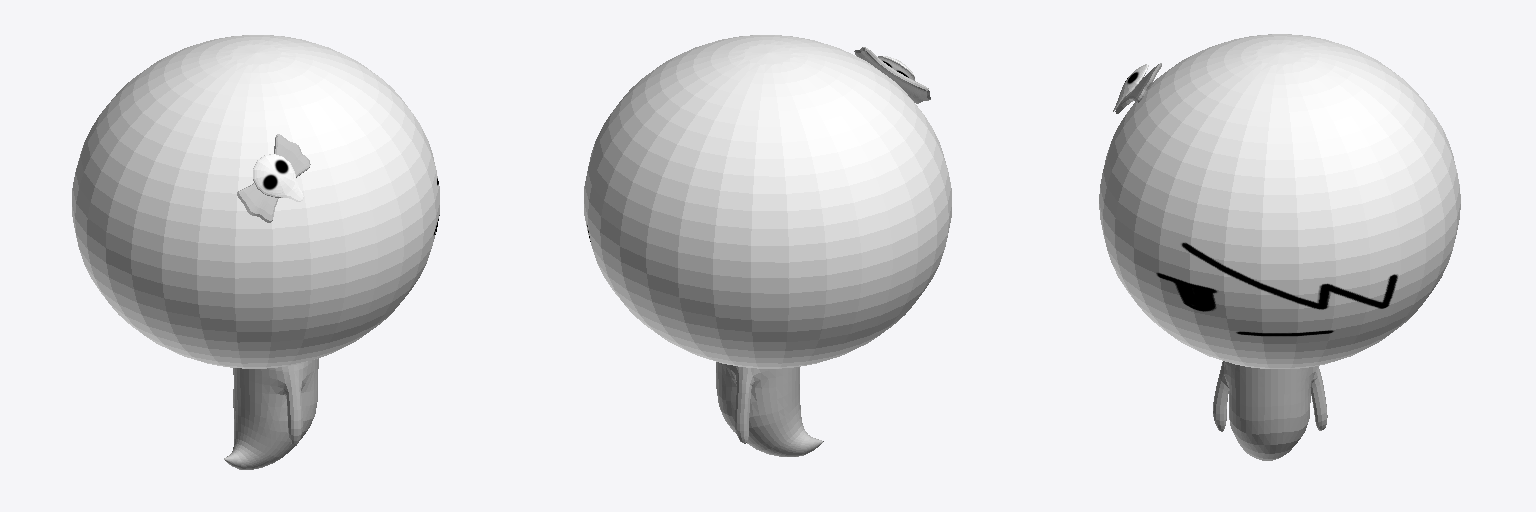
The picture shows the model from 3 angles: view 1: azimuth 30°, elevation 25°; view 2: azimuth 150°, elevation 25°; view 3: azimuth 270°, elevation 25°; orthographic projection.
Visible parts, largest first — view 1: Sphere; view 2: Sphere; view 3: Sphere.
Boxes of the visible parts, x1,y1,x2,y2 form: Sphere: [72, 35, 439, 469]; Sphere: [584, 35, 951, 456]; Sphere: [1099, 34, 1460, 460].
Size of the model in its own units: 9.31 by 11.29 by 9.13.
3 materials, 2 textured.